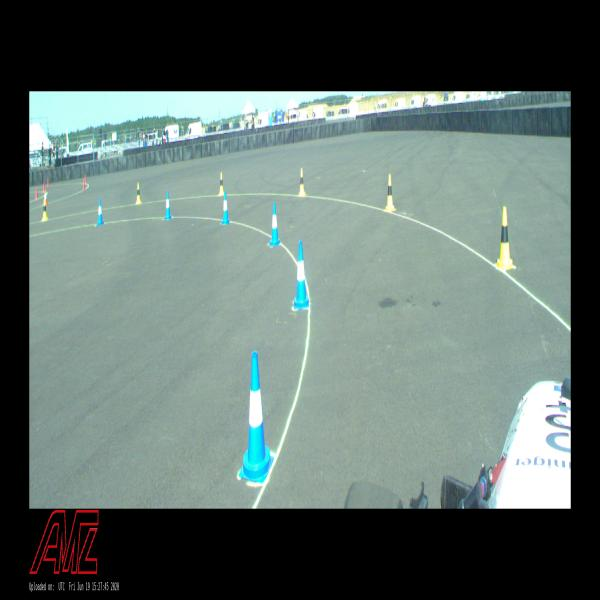blue_cone: (239, 351, 274, 483), (294, 241, 309, 308), (270, 202, 280, 246), (222, 190, 229, 224), (164, 191, 171, 219), (97, 199, 104, 225)
orange_cone: (44, 189, 48, 205)
unknown_cone: (36, 186, 38, 199), (43, 182, 45, 193), (83, 179, 85, 190), (84, 173, 86, 184), (47, 178, 49, 186)
yellow_cone: (496, 207, 512, 270), (385, 174, 394, 211), (298, 168, 305, 196), (42, 199, 48, 220), (136, 183, 141, 204), (219, 173, 224, 194)
